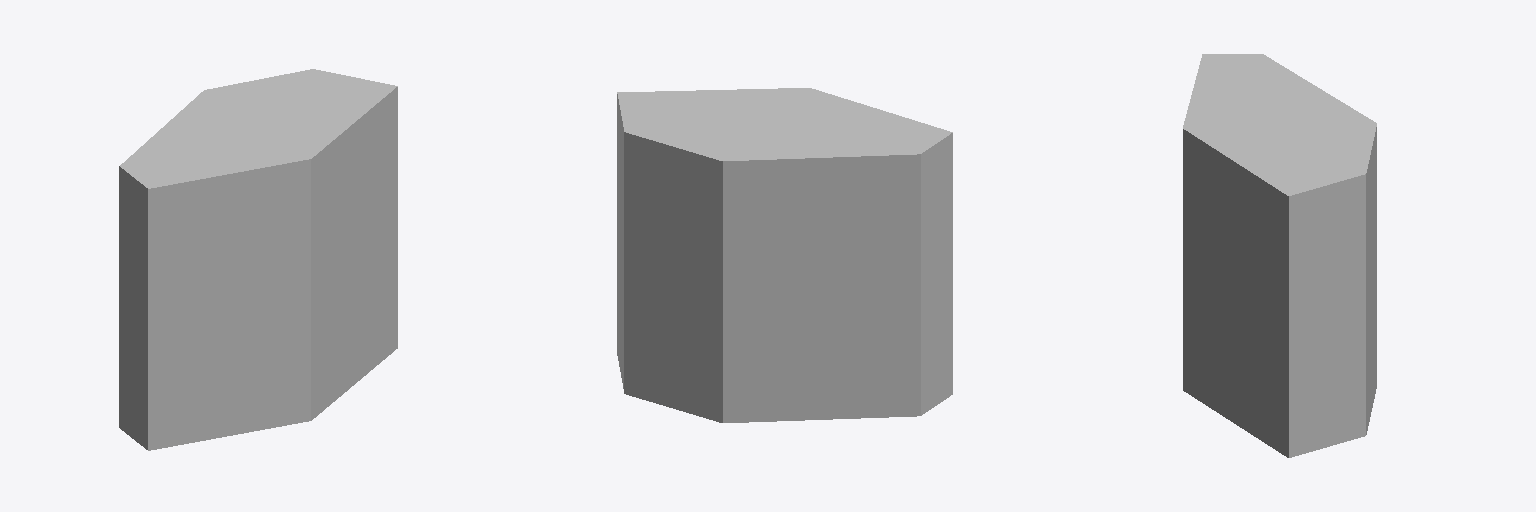
The model's file is Level06Border02.obj.
3 renders of one model, left to right at view 1: azimuth 30°, elevation 25°; view 2: azimuth 150°, elevation 25°; view 3: azimuth 270°, elevation 25°, orthographic.
Visible parts, largest first — view 1: Level06Border02; view 2: Level06Border02; view 3: Level06Border02.
Boxes of the visible parts, x1=… form: Level06Border02: x1=119, y1=69, x2=397, y2=450; Level06Border02: x1=617, y1=88, x2=952, y2=422; Level06Border02: x1=1183, y1=54, x2=1376, y2=457.
Bounding box in the file's own units: 5.85 × 5 × 3.37.